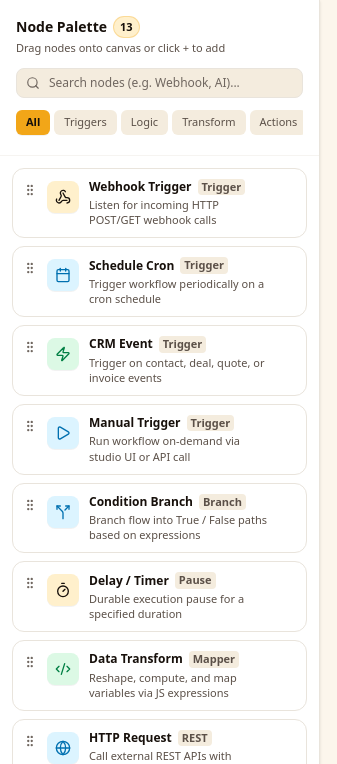
Automation Node Components › NodePaletteDrawer › filters items by category pill
Click the button with test id "category-filter-triggers": click(86, 122) [54,110,117,135]
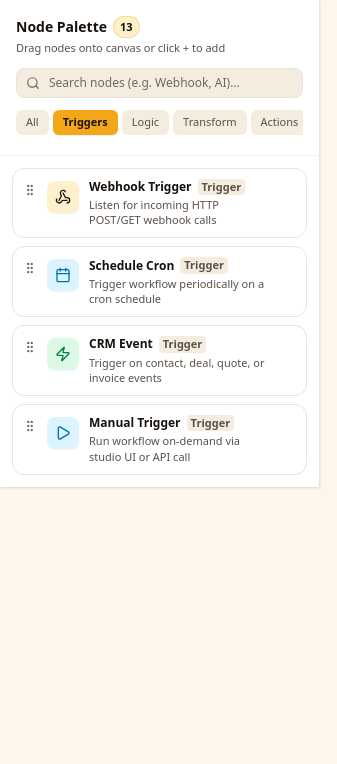
Expected: the element with test id "palette-item-webhookTrigger" is shown, [12,168,307,238]
Expected: the element with test id "palette-item-scheduleTrigger" is shown, [12,246,307,317]
Click the button with test id "category-filter-actions": click(279, 122) [250,110,308,135]
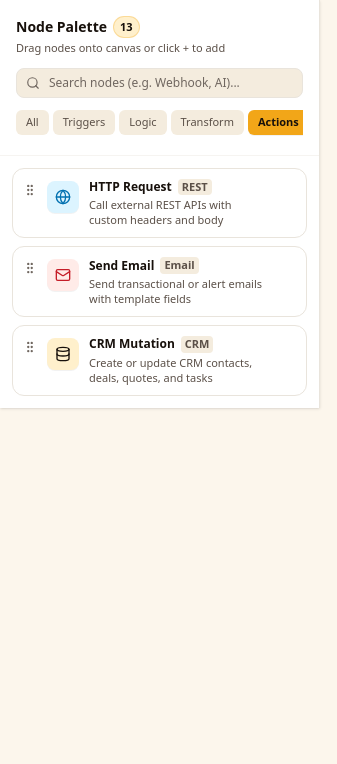
Now the element with test id "palette-item-httpRequestNode" is shown, box [12,168,307,238]
Now the element with test id "palette-item-sendEmailNode" is shown, box [12,246,307,317]
Now the element with test id "palette-item-webhookTrigger" is gone
